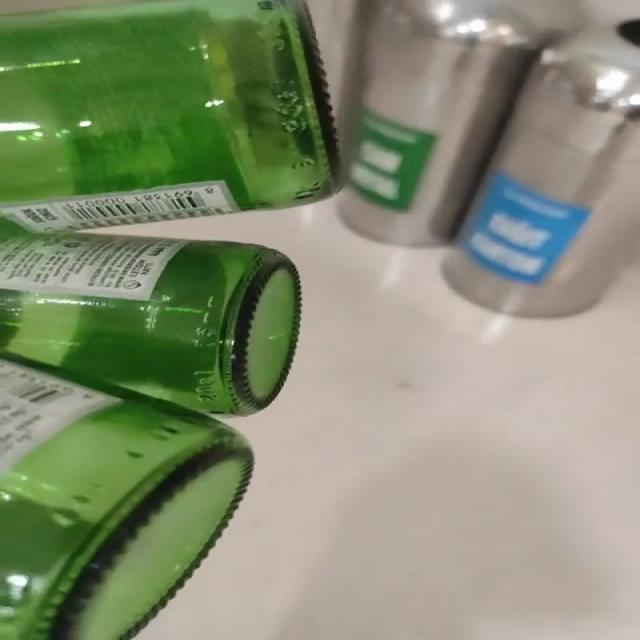glass: (1, 0, 339, 640)
